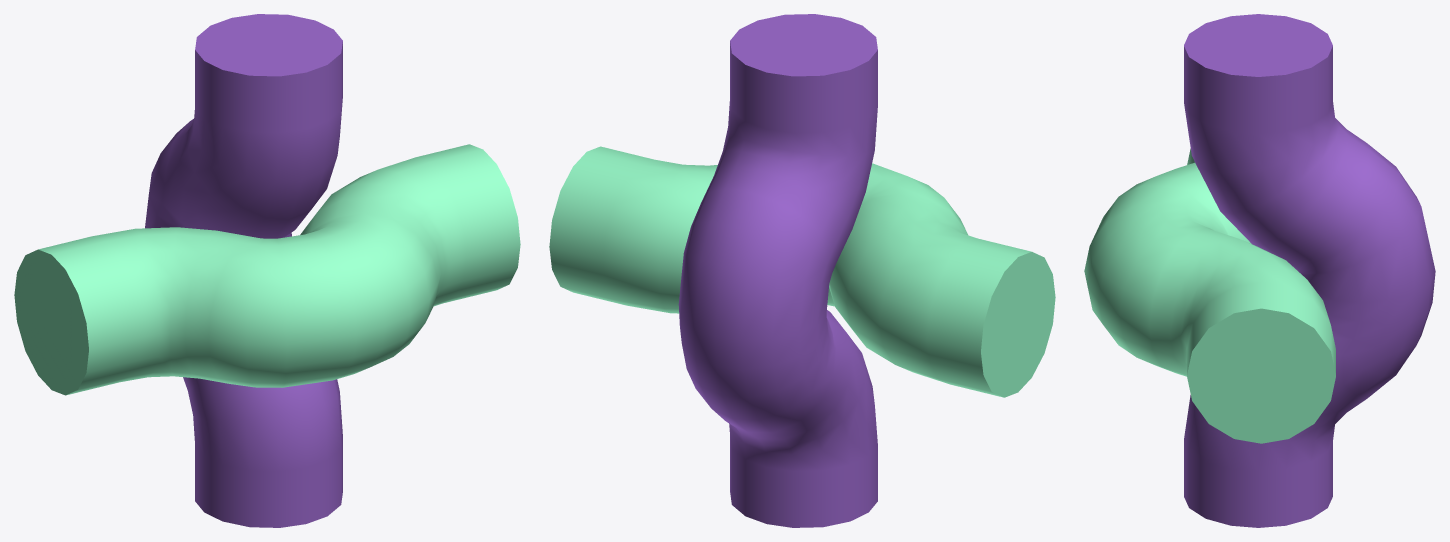
Rendered from weftup.obj.
3 views of the same model, side by side, from view 1: azimuth 30°, elevation 25°; view 2: azimuth 150°, elevation 25°; view 3: azimuth 270°, elevation 25° (orthographic).
Parts seen in each view (by area): view 1: object_2, object_1; view 2: object_1, object_2; view 3: object_1, object_2.
Part boxes in pixels (box(x1,y1,x2,y2)): object_2: box(14, 144, 520, 395); object_1: box(145, 14, 342, 527); object_1: box(678, 14, 877, 527); object_2: box(549, 146, 1055, 397); object_1: box(1184, 14, 1435, 527); object_2: box(1084, 149, 1335, 443).
Size of the model in its own units: 10 by 10 by 7.06.
